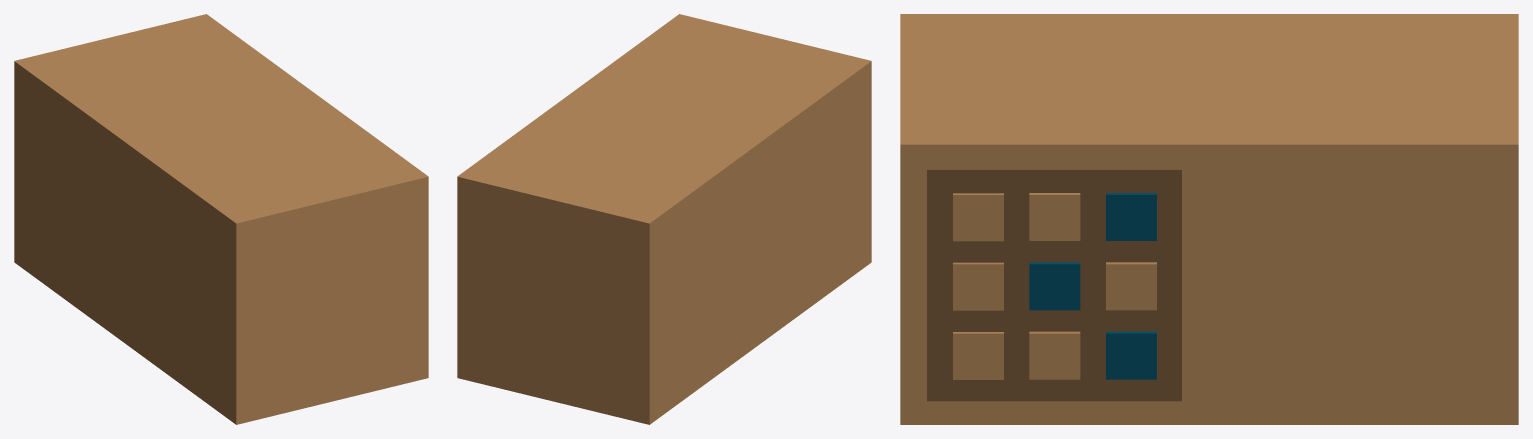
Rendered from F3PasswordPanel.fbx.
The picture shows the model from 3 angles, left to right: view 1: azimuth 30°, elevation 25°; view 2: azimuth 150°, elevation 25°; view 3: azimuth 270°, elevation 25°; orthographic projection. The views are drawn at different scales.
Visible parts, largest first — view 1: WallPassword; view 2: WallPassword; view 3: WallPassword, BasePanel, Button.004, Button.007, Button, Button.003, Button.005, Button.008, Button.001, Button.002, Button.006.
Part boxes in pixels (x1=…): WallPassword: x1=14, y1=14, x2=428, y2=424; WallPassword: x1=457, y1=14, x2=871, y2=424; WallPassword: x1=900, y1=14, x2=1518, y2=424; BasePanel: x1=927, y1=169, x2=1181, y2=401; Button.004: x1=1029, y1=262, x2=1080, y2=310; Button.007: x1=1029, y1=331, x2=1080, y2=379; Button: x1=953, y1=193, x2=1003, y2=241; Button.003: x1=953, y1=262, x2=1003, y2=310; Button.005: x1=1106, y1=262, x2=1156, y2=310; Button.008: x1=1106, y1=331, x2=1156, y2=379; Button.001: x1=1029, y1=193, x2=1080, y2=240; Button.002: x1=1106, y1=193, x2=1156, y2=240; Button.006: x1=953, y1=332, x2=1003, y2=379.
Bounding box in the file's own units: 10.18 × 10 × 20.
